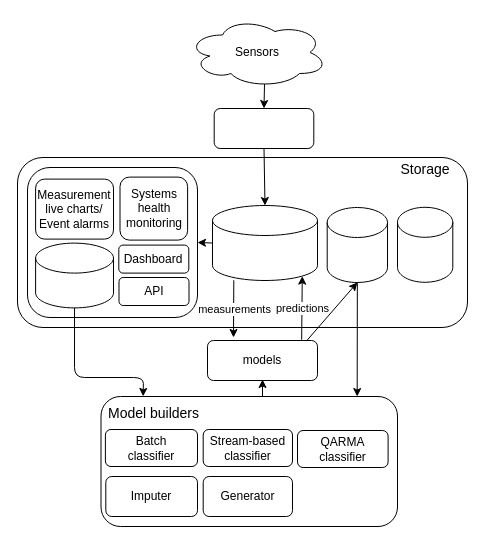
The diagram is 485 pixels wide and 544 high, and some of its shapes have lost their labels. The shapes that lost their labels are listed below. From the top down, each one's centre as x and y in pixels, then its label:
[263,128]: Collector
[265,242]: Streams (Kafka streams + Zookeeper)
[357,244]: Outliers
[424,244]: Syslog
[74,275]: Timeseries database
